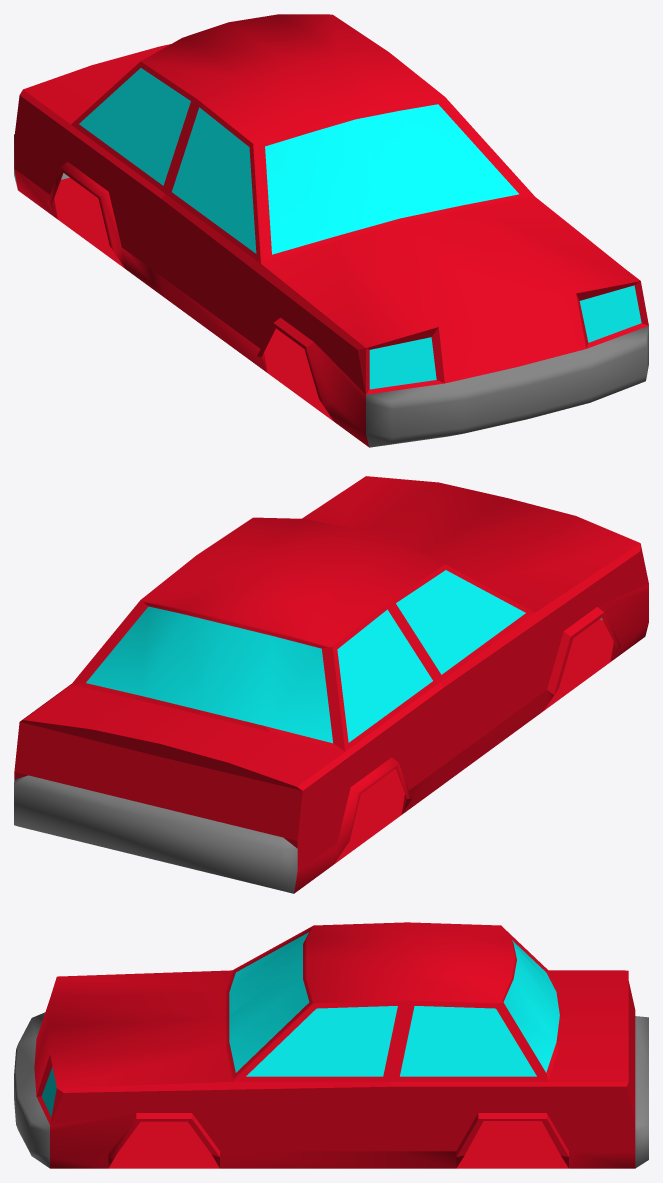
File: carro.obj
3 renders of one model, top to bottom at view 1: azimuth 30°, elevation 25°; view 2: azimuth 150°, elevation 25°; view 3: azimuth 270°, elevation 25°, orthographic. The views are drawn at different scales.
Visible parts, largest first — view 1: Cuerpo_carro; view 2: Cuerpo_carro; view 3: Cuerpo_carro.
Part boxes in pixels (x1=…): Cuerpo_carro: x1=14, y1=14, x2=648, y2=447; Cuerpo_carro: x1=14, y1=476, x2=648, y2=893; Cuerpo_carro: x1=14, y1=922, x2=648, y2=1168.
Bounding box in the file's own units: 2.1 × 1.29 × 4.66.
